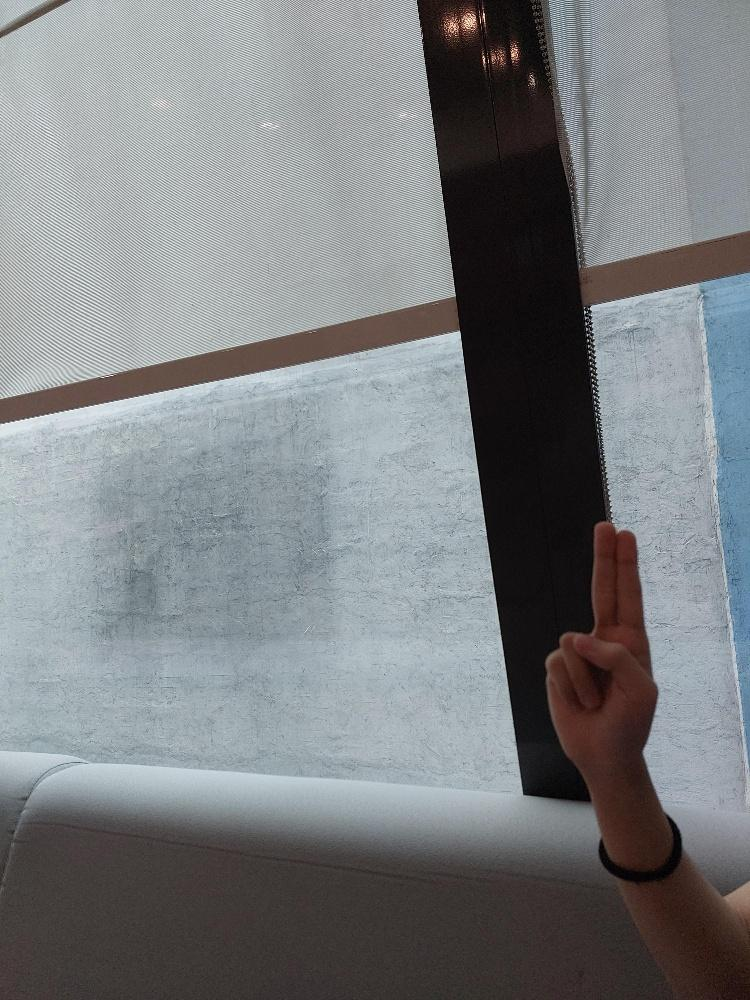u: (543, 517, 661, 760)
